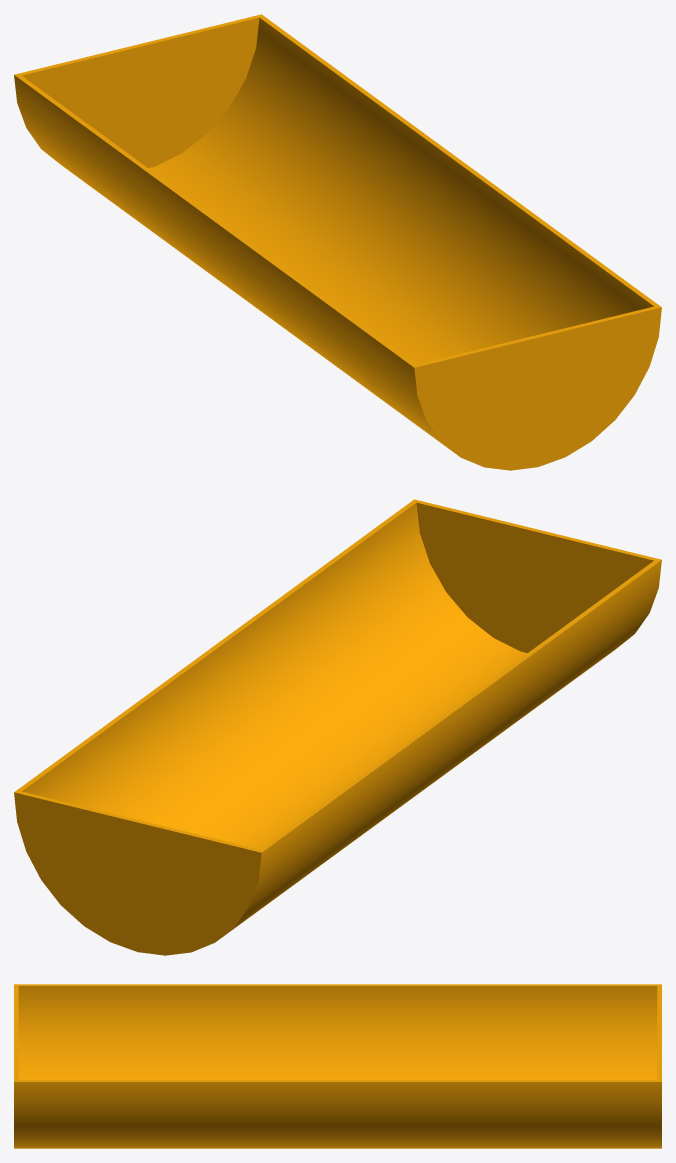
Rendered from PolluxMidBody_Lower.gltf.
3 views of the same model, one above another, from view 1: azimuth 30°, elevation 25°; view 2: azimuth 150°, elevation 25°; view 3: azimuth 270°, elevation 25° (orthographic). The views are drawn at different scales.
Visible parts, largest first — view 1: MidBody_Lower; view 2: MidBody_Lower; view 3: MidBody_Lower.
Boxes of the visible parts, left/top/right/bottom form: MidBody_Lower: left=14, top=14, right=661, bottom=470; MidBody_Lower: left=14, top=499, right=661, bottom=955; MidBody_Lower: left=14, top=984, right=661, bottom=1148.
Size of the model in its own units: 0.25 by 0.125 by 0.7.
